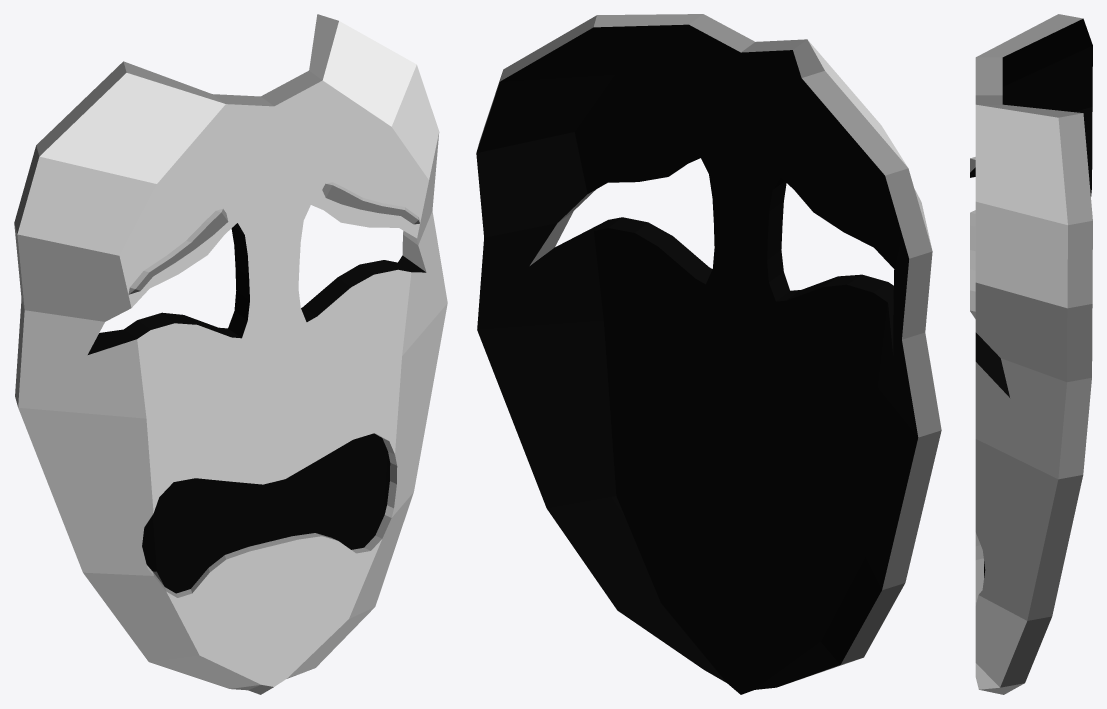
Rendered from DespairMask.fbx.
3 views of the same model, side by side, from view 1: azimuth 30°, elevation 25°; view 2: azimuth 150°, elevation 25°; view 3: azimuth 270°, elevation 25° (orthographic). The views are drawn at different scales.
Visible parts, largest first — view 1: Cube; view 2: Cube; view 3: Cube.
Boxes of the visible parts, bbox=[...] form: Cube: bbox=[14, 14, 447, 694]; Cube: bbox=[476, 14, 941, 694]; Cube: bbox=[970, 14, 1092, 694].
Size of the model in its own units: 38.78 by 54.15 by 9.61.
